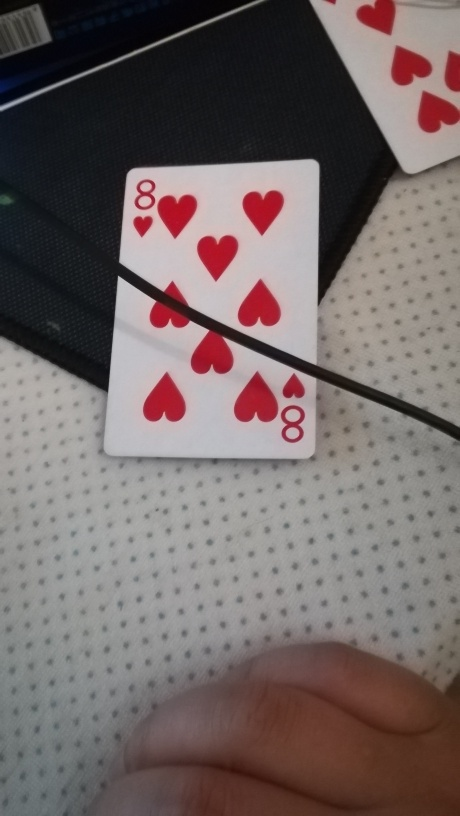hx 8: (105, 157, 319, 465)
